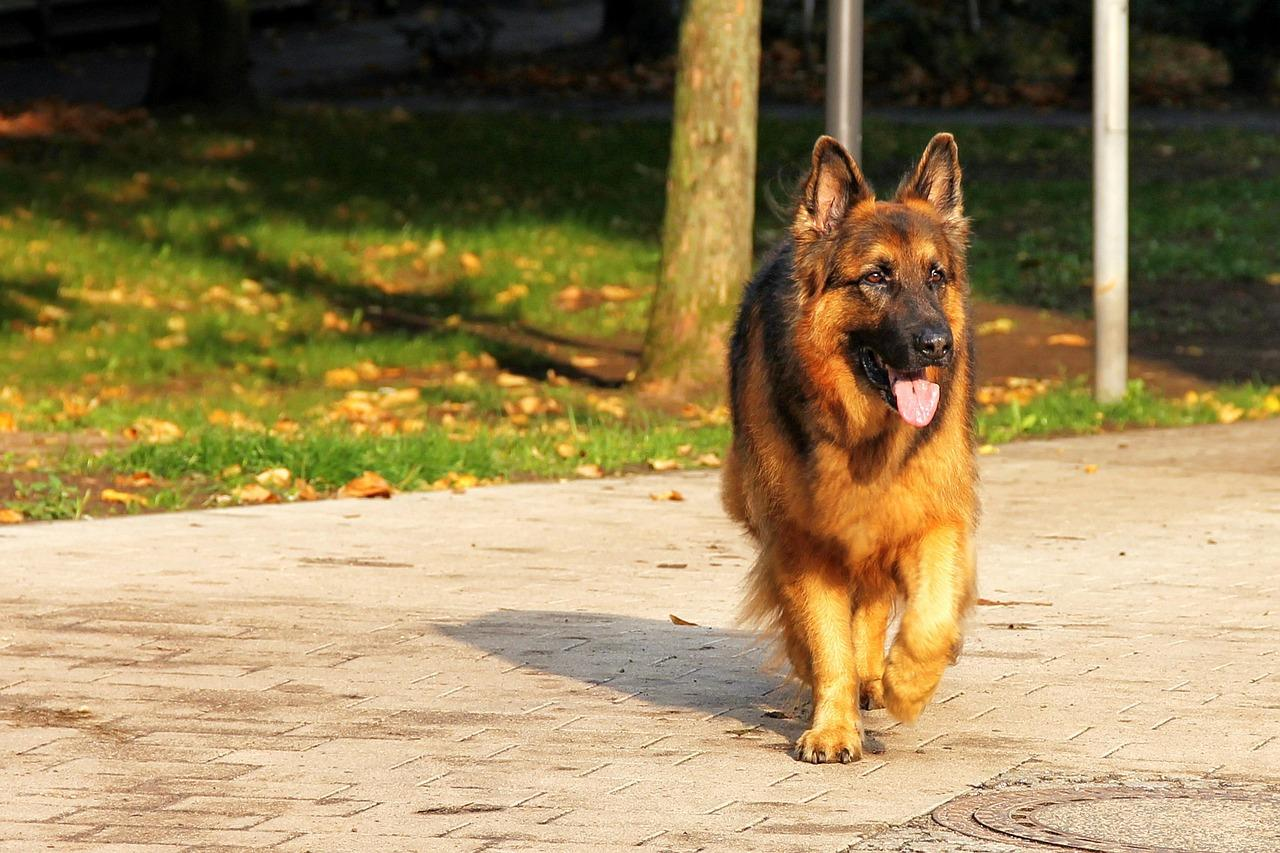german_shepherd: (779, 142, 995, 452)
